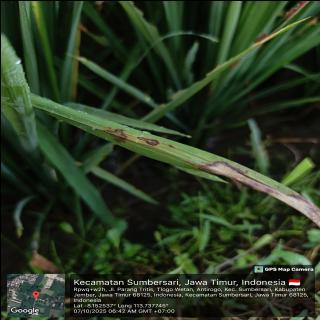Blast: (195, 160, 320, 226)
